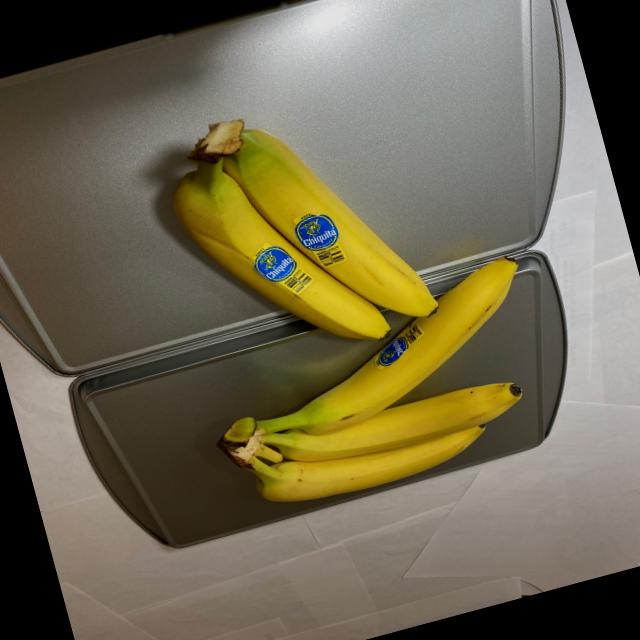banana: (182, 250, 570, 525), (146, 74, 450, 386)
